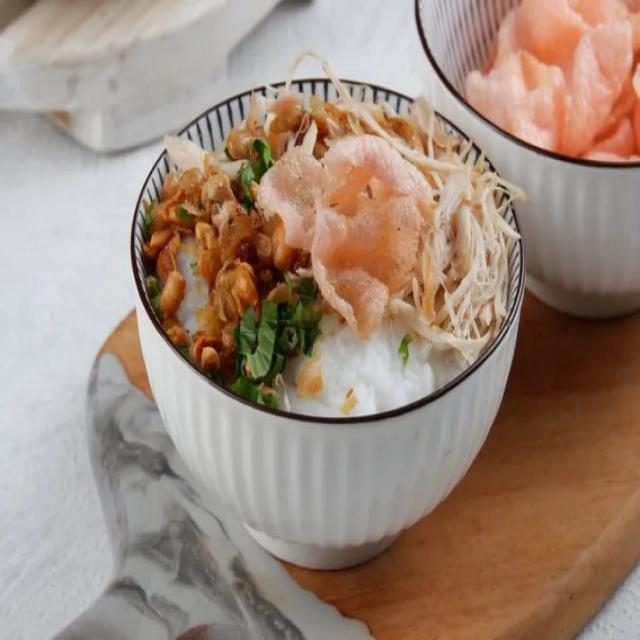bubur ayam: (146, 94, 512, 418)
mangkuk: (128, 78, 528, 574), (416, 0, 640, 315)
